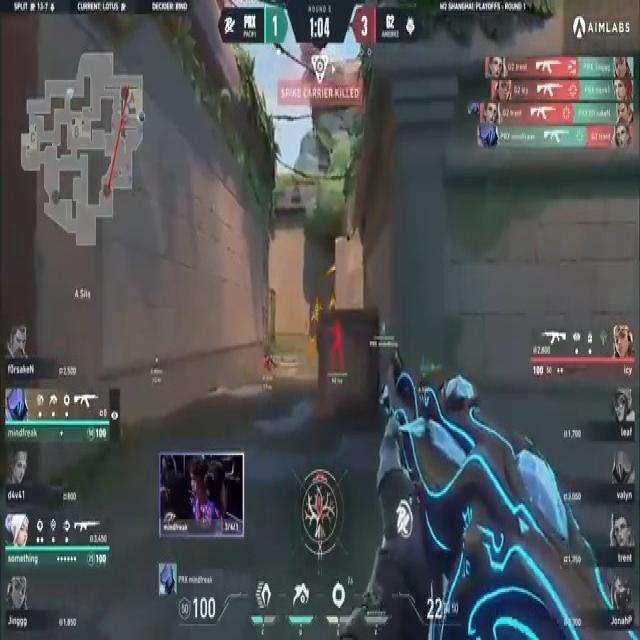enemy behind wall: (326, 319, 346, 373)
